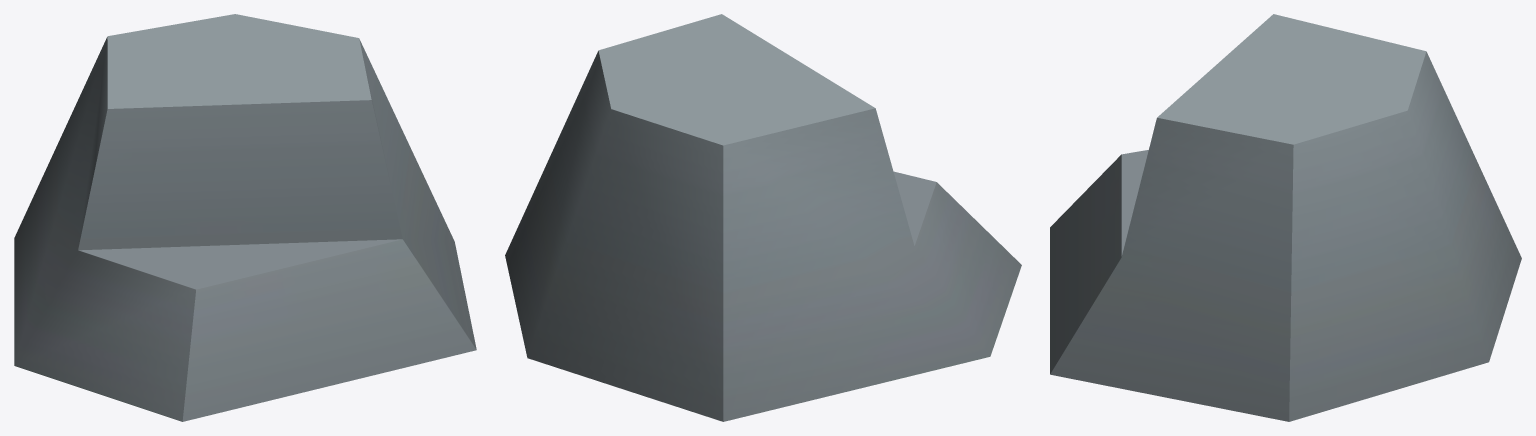
File: rock-b.glb
3 views of the same model, side by side, from view 1: azimuth 30°, elevation 25°; view 2: azimuth 150°, elevation 25°; view 3: azimuth 270°, elevation 25° (orthographic). The views are drawn at different scales.
Parts seen in each view (by area): view 1: rock_single_B; view 2: rock_single_B; view 3: rock_single_B.
Part boxes in pixels (x1,y1,x2,y2): rock_single_B: (14,14,476,421); rock_single_B: (505,14,1021,421); rock_single_B: (1050,14,1521,421).
Bounding box in the file's own units: 0.2866 × 0.1346 × 0.2497.
1 material, 1 textured.
